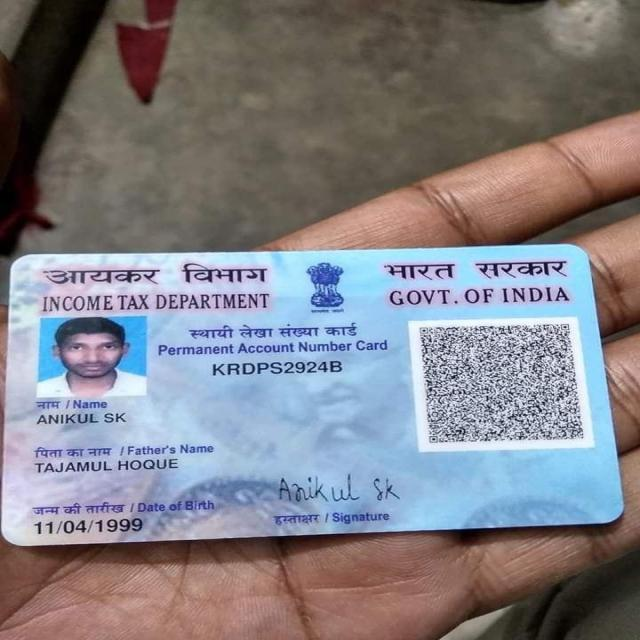pan_card: (5, 243, 623, 548)
